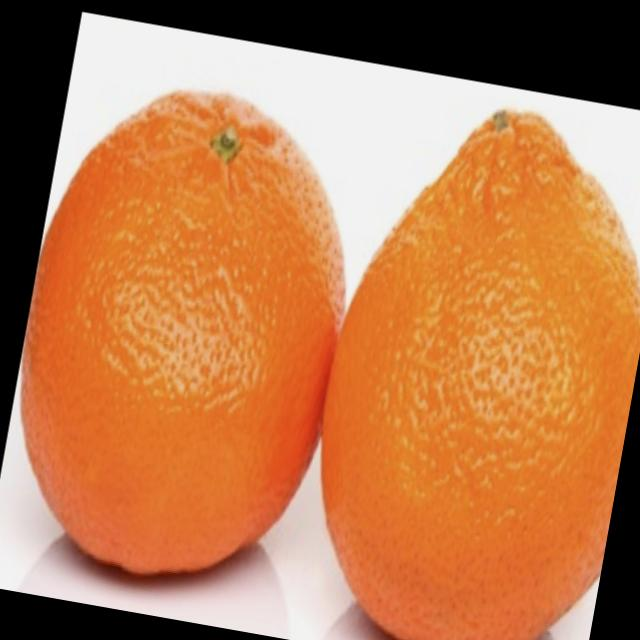orange: (0, 68, 382, 606), (291, 82, 640, 640)
